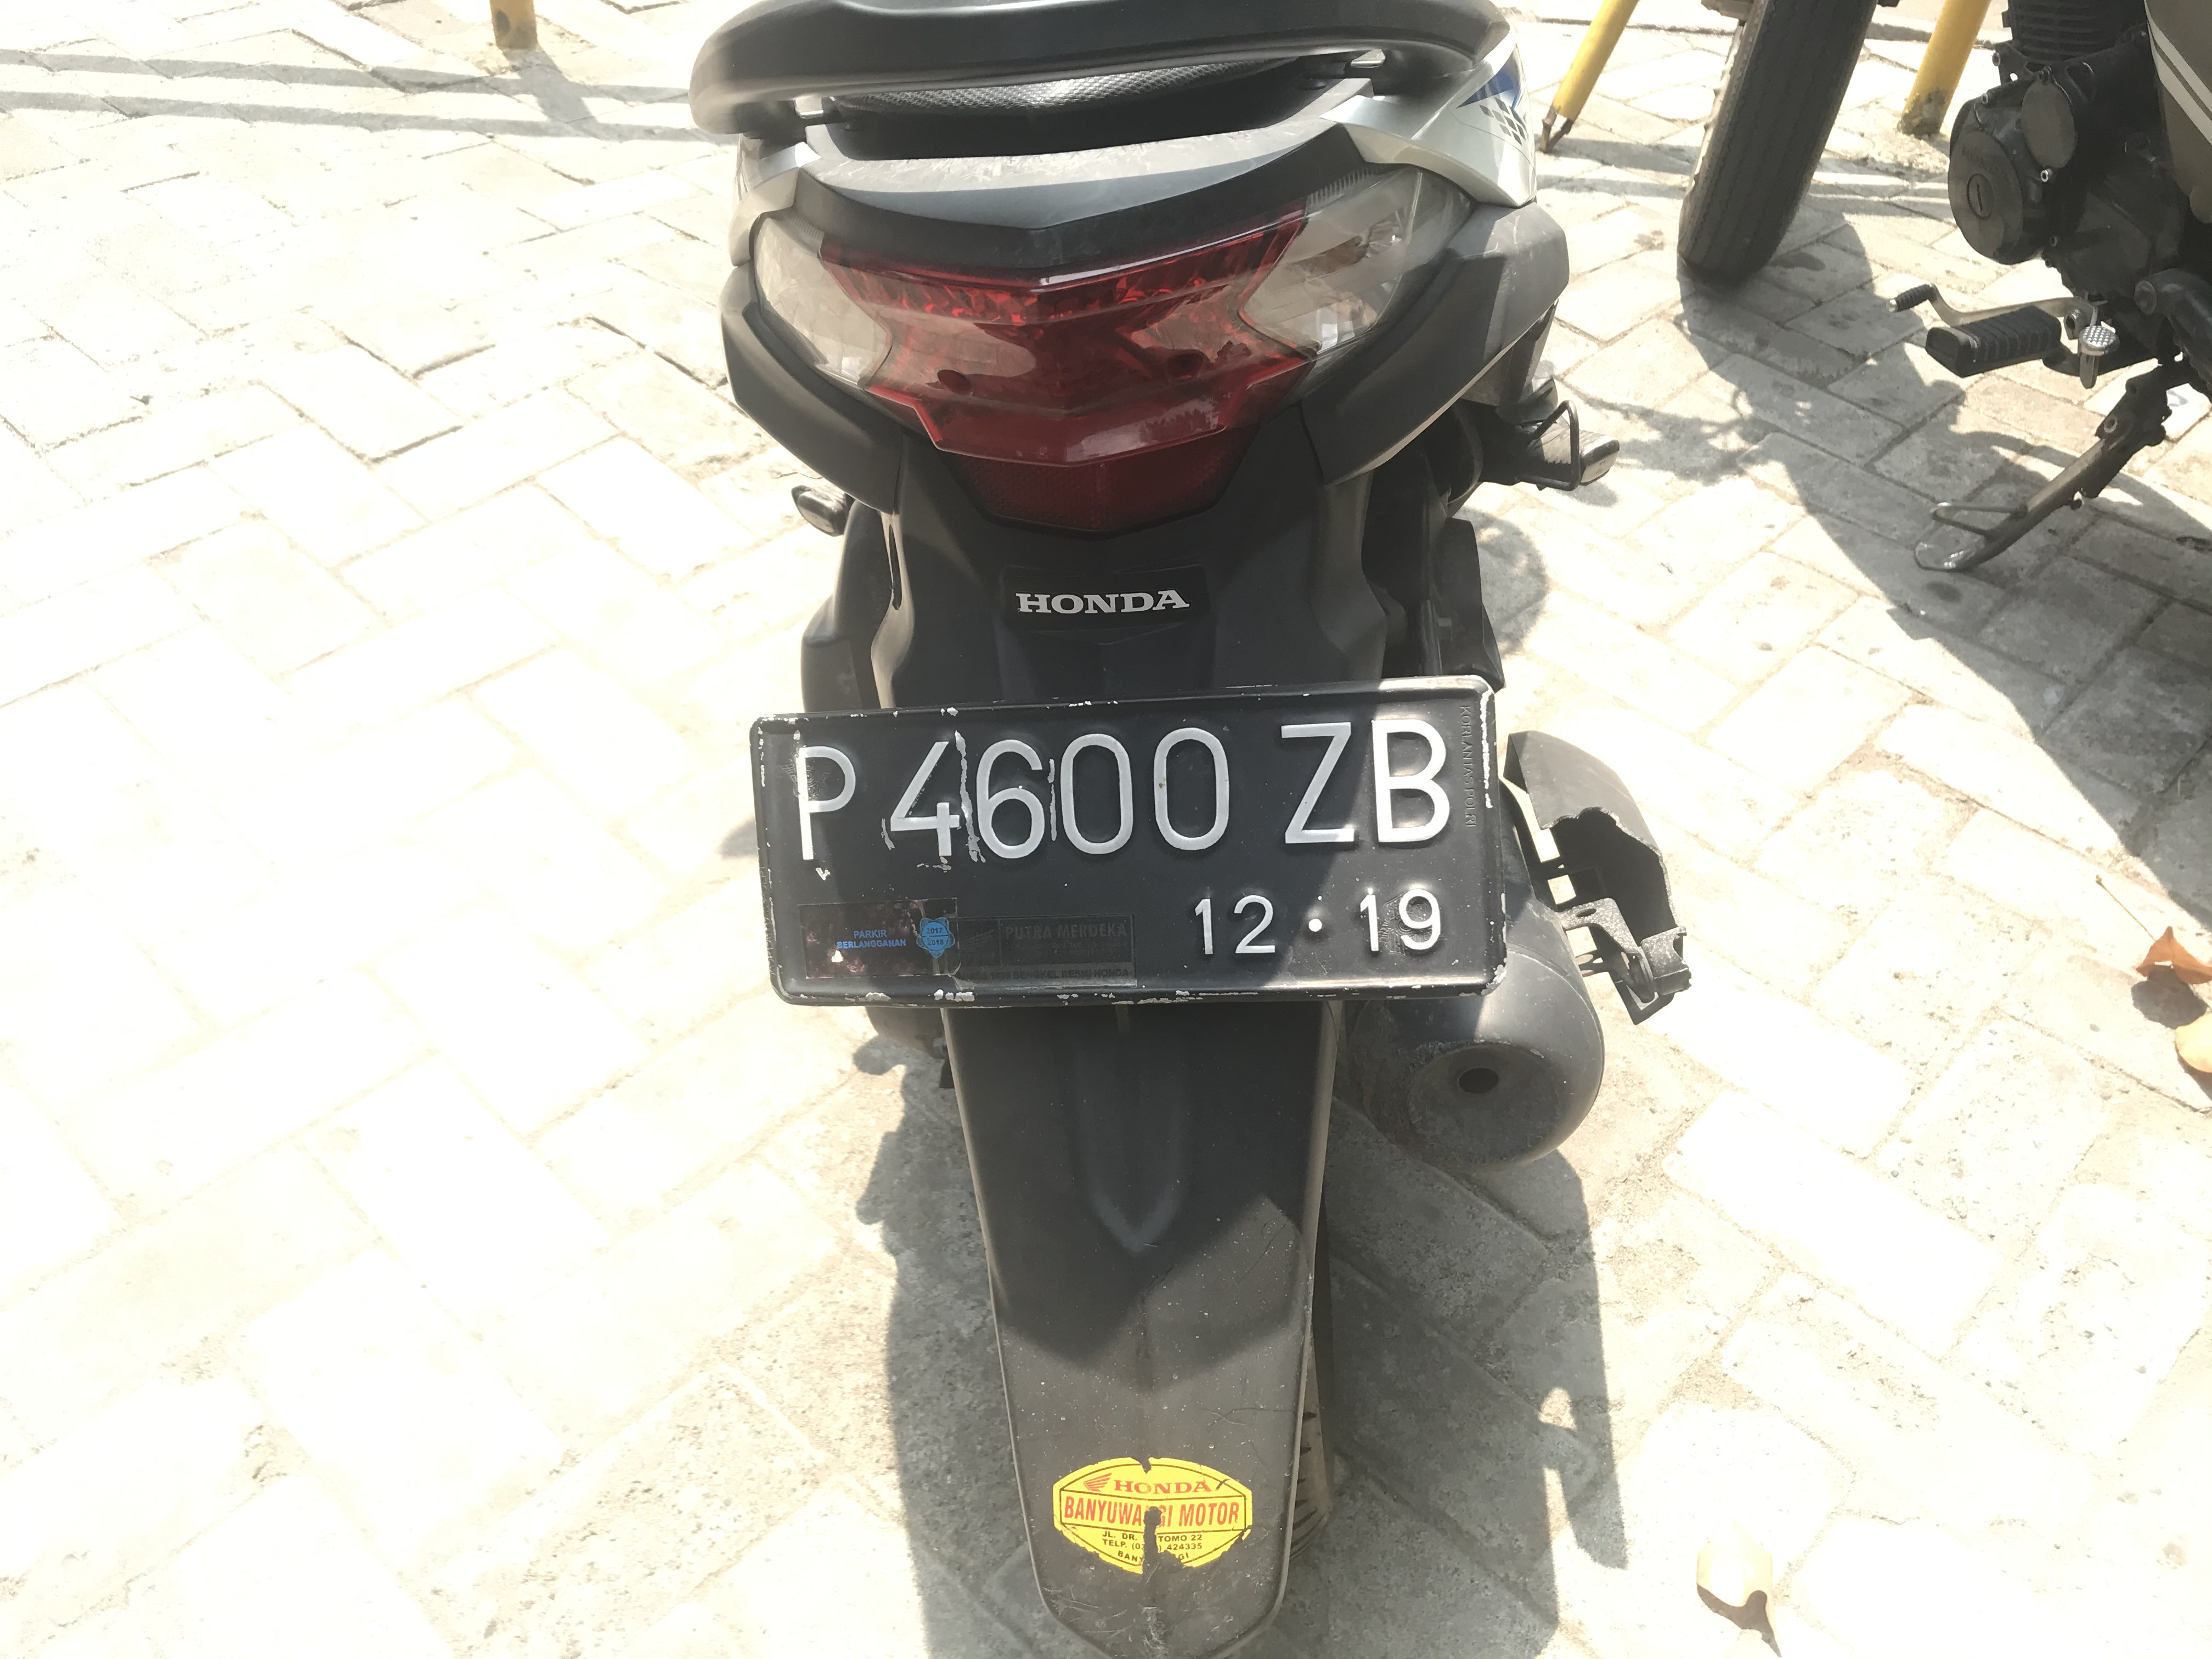plate: (759, 682, 1489, 1000)
